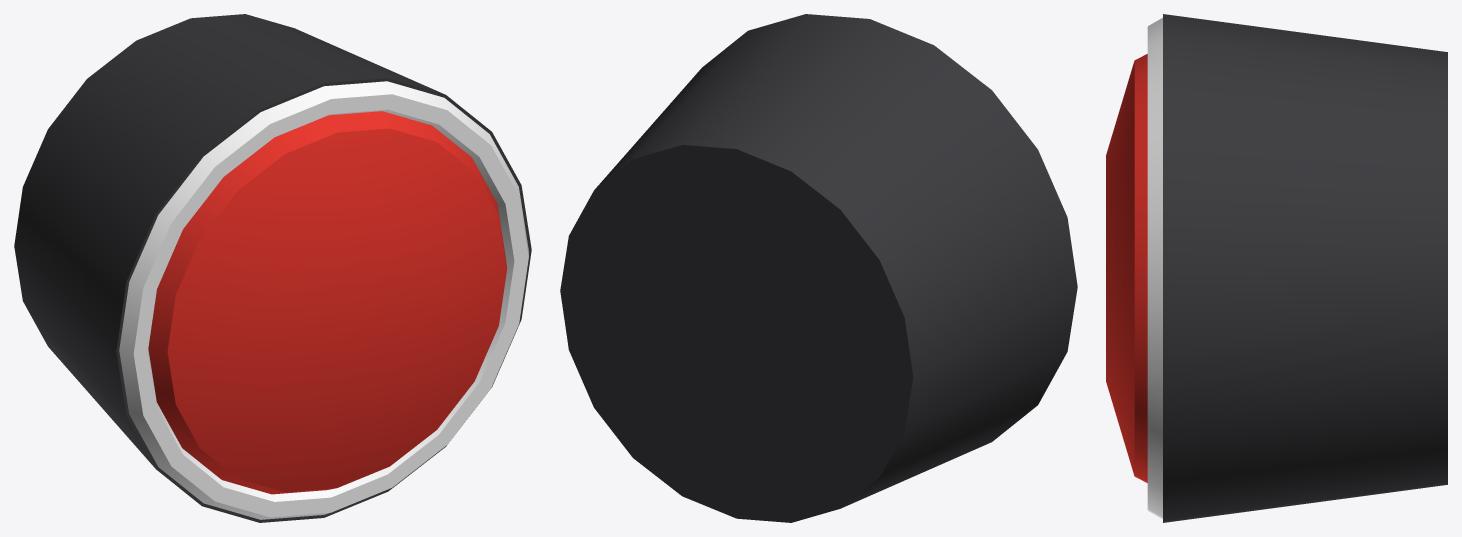
File: round.glb
3 renders of one model, left to right at view 1: azimuth 30°, elevation 25°; view 2: azimuth 150°, elevation 25°; view 3: azimuth 270°, elevation 25°, orthographic. The views are drawn at different scales.
Visible parts, largest first — view 1: lod0; view 2: lod0; view 3: lod0.
Boxes of the visible parts, bbox=[...] form: lod0: bbox=[14, 14, 531, 522]; lod0: bbox=[560, 14, 1077, 522]; lod0: bbox=[1106, 14, 1447, 522].
Size of what is drawn, in the model's own units: 0.072 by 0.072 by 0.048.
